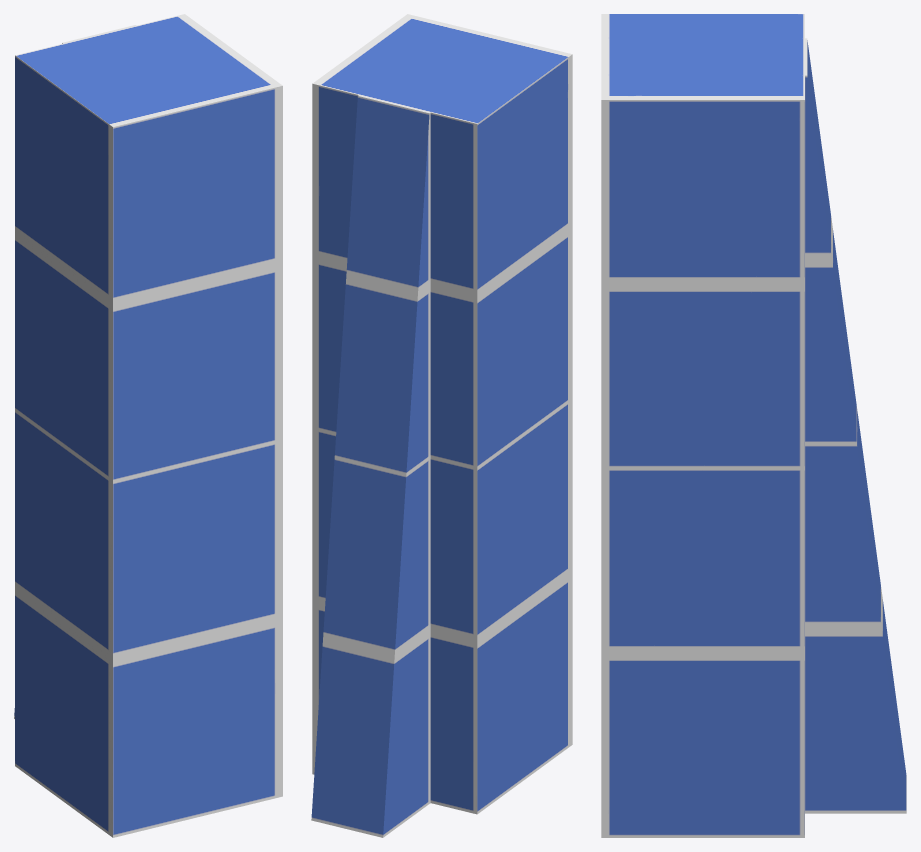
The model's file is M_Wall_Single.FBX.
The picture shows the model from 3 angles, left to right: view 1: azimuth 30°, elevation 25°; view 2: azimuth 150°, elevation 25°; view 3: azimuth 270°, elevation 25°; orthographic projection. The views are drawn at different scales.
Visible parts, largest first — view 1: M_Wall_Single; view 2: M_Wall_Single; view 3: M_Wall_Single.
Part boxes in pixels (box(x1,y1,x2,y2)): M_Wall_Single: box(14, 14, 282, 837); M_Wall_Single: box(311, 14, 572, 837); M_Wall_Single: box(601, 14, 906, 837).
Size of the model in its own units: 100 by 400 by 150.
